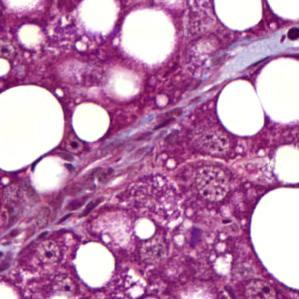steatosis: (72, 238, 117, 290), (65, 97, 114, 144)
